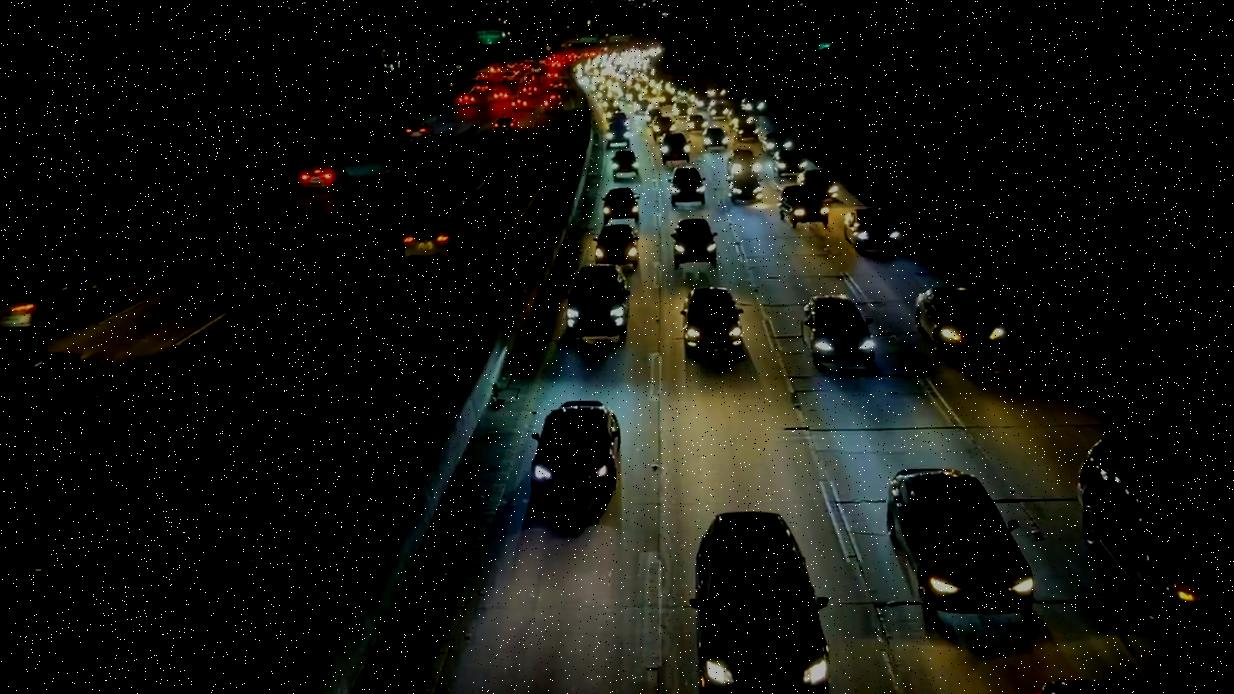car: (1079, 437, 1234, 625), (880, 471, 1044, 631), (692, 510, 830, 694), (519, 400, 628, 506), (912, 286, 1000, 355), (563, 268, 638, 345), (0, 271, 88, 336), (798, 296, 873, 359), (681, 286, 741, 358), (401, 217, 468, 264), (670, 218, 717, 268), (844, 210, 899, 250), (780, 183, 829, 225), (595, 224, 642, 266), (295, 163, 346, 190), (669, 166, 707, 201), (603, 186, 640, 220), (796, 171, 842, 198), (661, 133, 690, 163), (608, 150, 639, 176), (770, 151, 806, 172), (701, 127, 729, 148), (495, 117, 518, 135)
